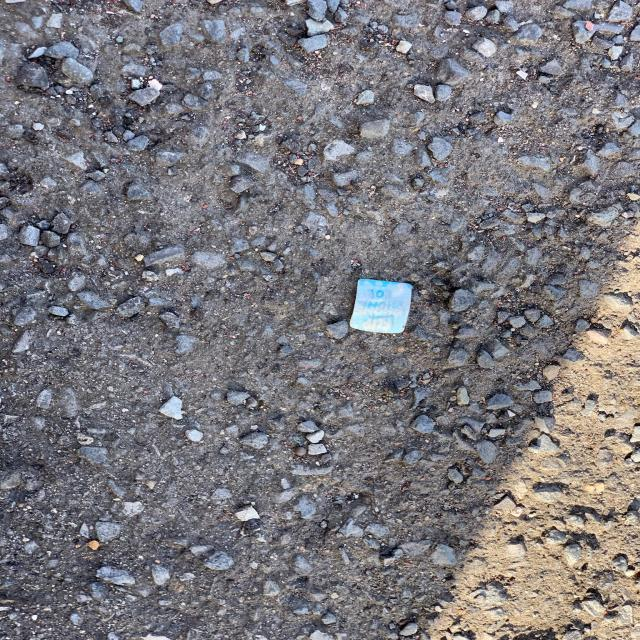Other plastic: (349, 279, 412, 333)
